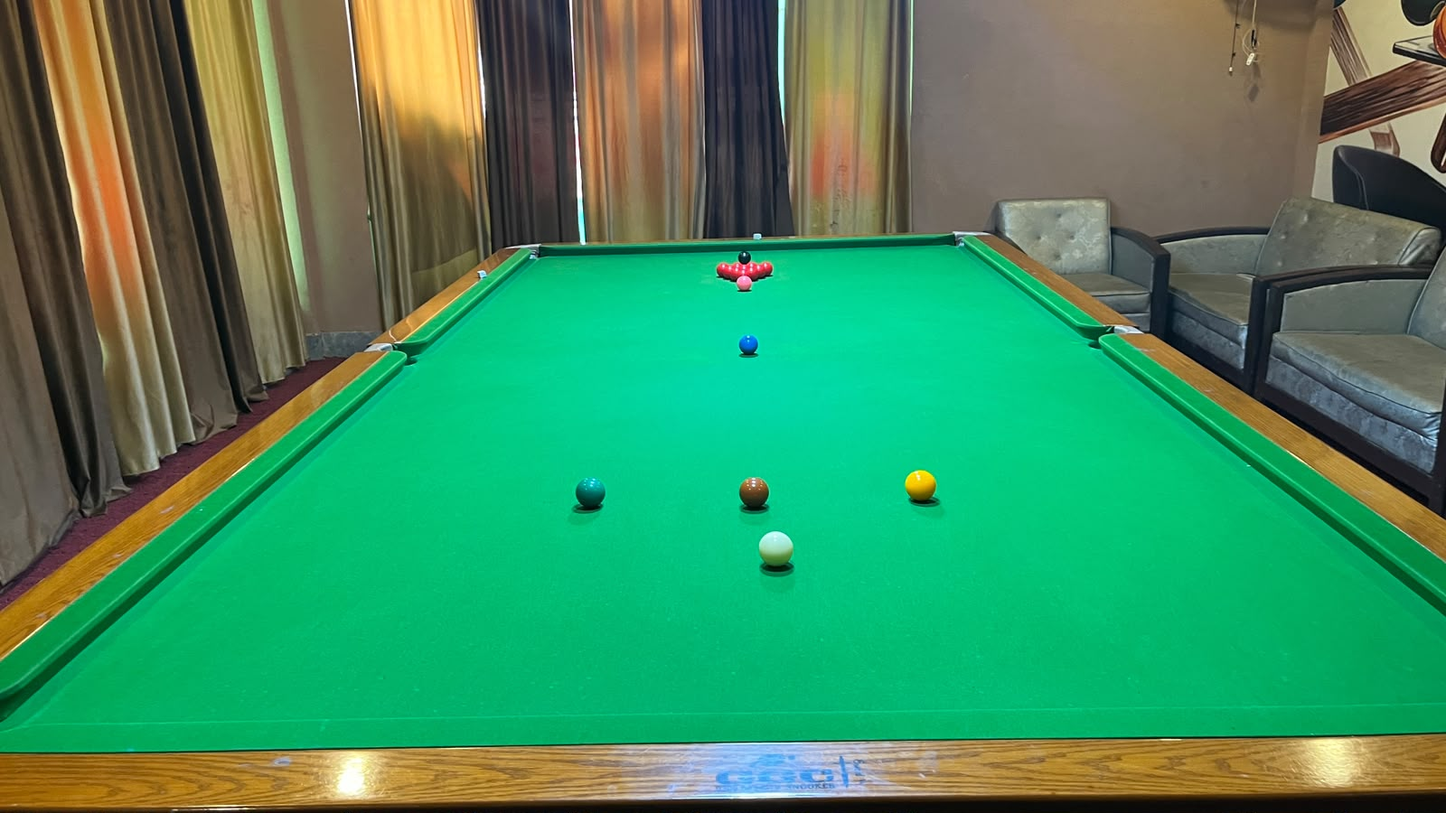Snooker: (713, 261, 775, 281)
